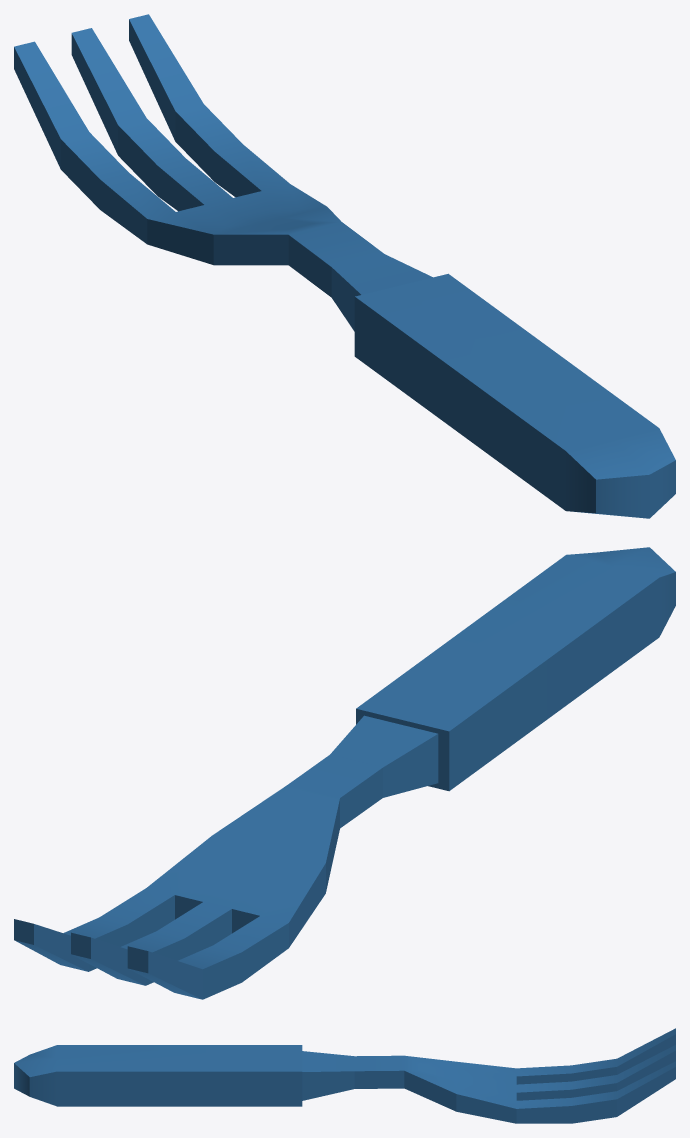
Rendered from tenedor.fbx.
The picture shows the model from 3 angles, top to bottom: view 1: azimuth 30°, elevation 25°; view 2: azimuth 150°, elevation 25°; view 3: azimuth 270°, elevation 25°; orthographic projection. The views are drawn at different scales.
Parts seen in each view (by area): view 1: pCube283; view 2: pCube283; view 3: pCube283.
Boxes of the visible parts, x1,y1,x2,y2 form: pCube283: [14, 14, 675, 518]; pCube283: [14, 547, 675, 999]; pCube283: [14, 1028, 675, 1123].
Size of the model in its own units: 0.0231 by 0.0149 by 0.1593.
